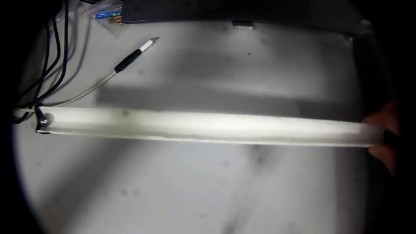gangzhu: (39, 113, 50, 127)
